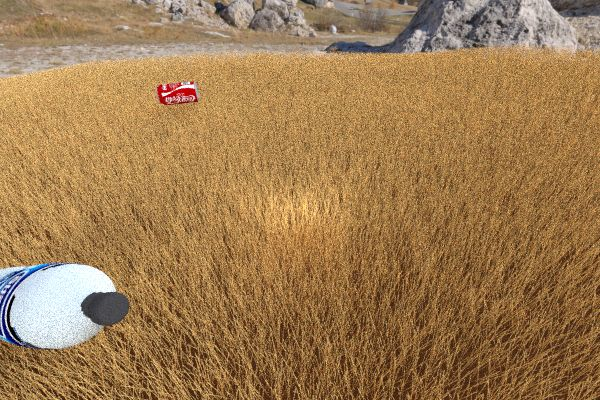bottle: (0, 261, 126, 347)
can: (324, 140, 397, 192), (189, 70, 229, 96)
